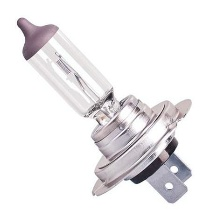light_bulb: (13, 14, 202, 206)
